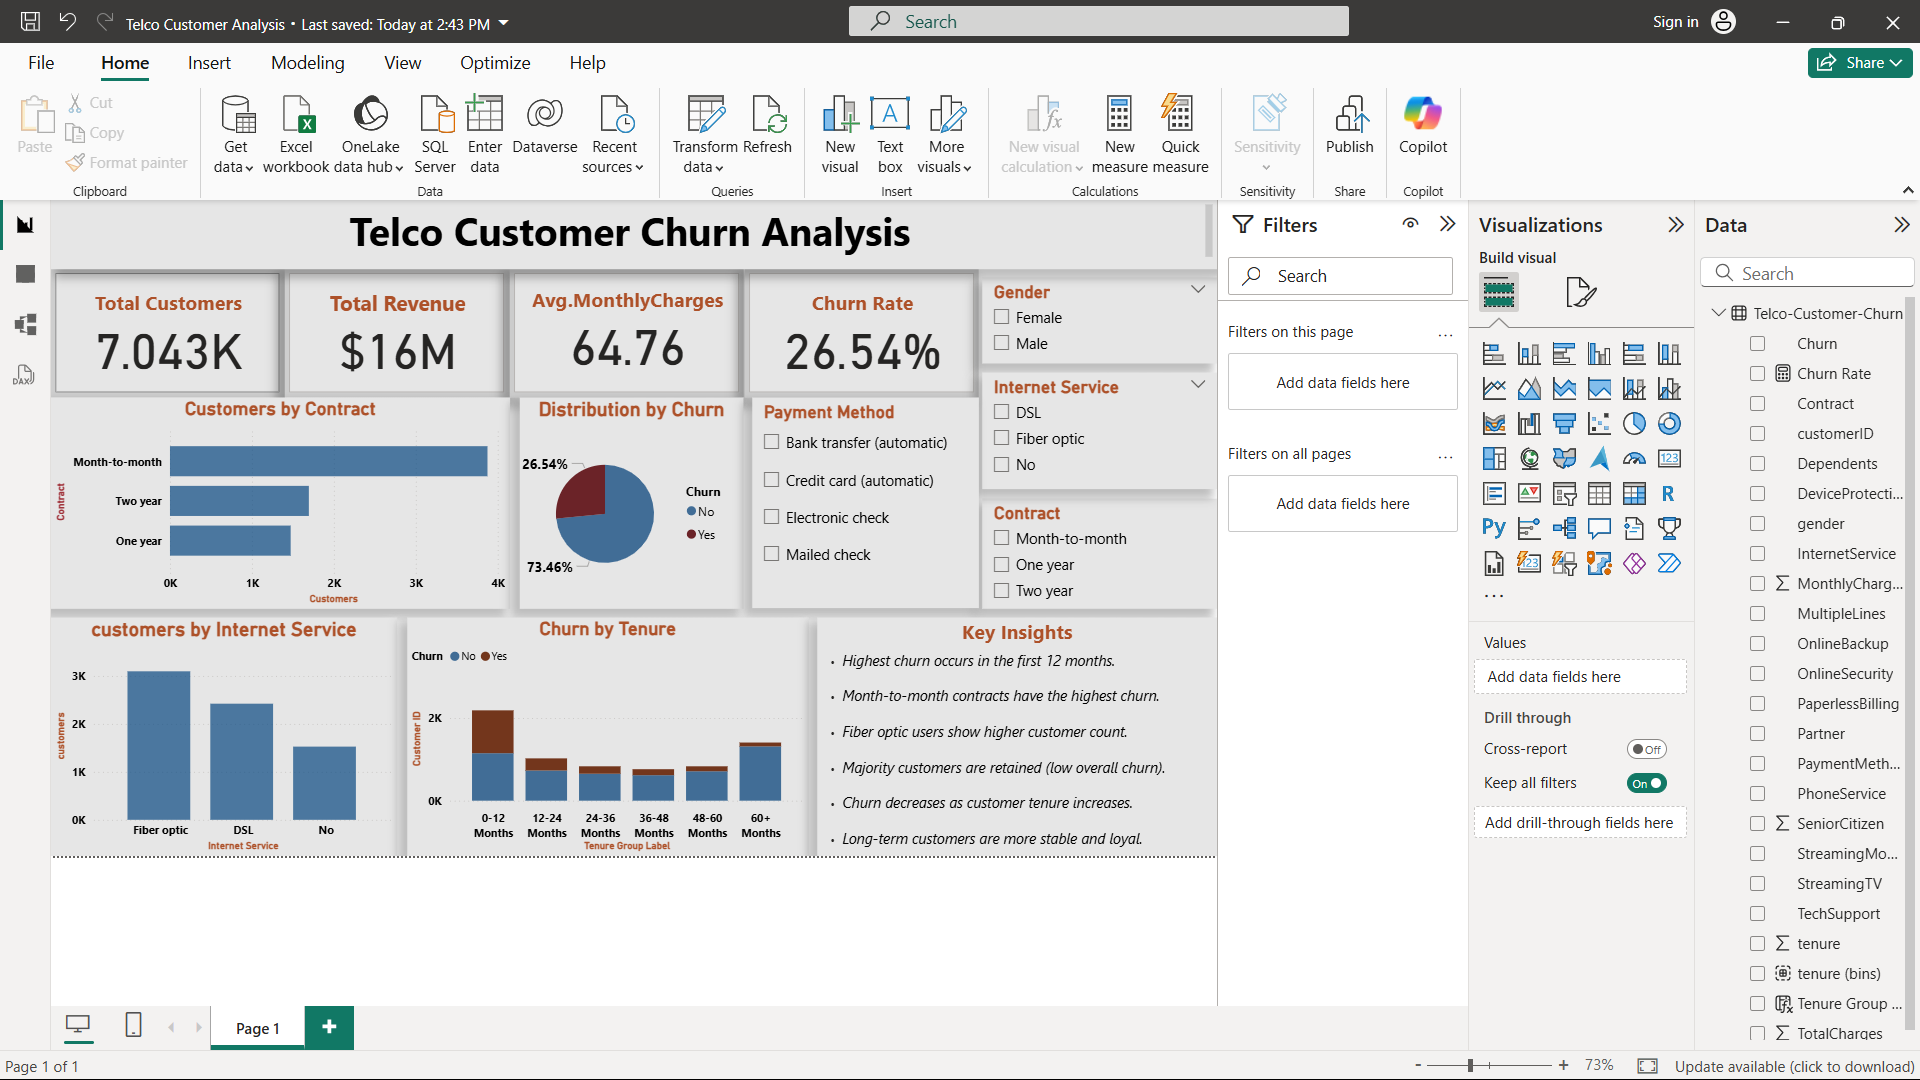

The page's visual inventory and layout, read from the dashboard file:
{"tool":"powerbi","page":{"name":"Page 1","canvas":[1280,720],"ordinal":0},"visuals":[{"type":"cardVisual","fields":{"Data":["CountNonNull(Telco-Customer-Churn.customerID)"]},"box":[0,75.5,256.6,141.3],"z":0},{"type":"cardVisual","fields":{"Data":["Sum(Telco-Customer-Churn.TotalCharges)"]},"box":[256.6,75.5,247,141.3],"z":1000},{"type":"cardVisual","fields":{"Data":["Avg(Telco-Customer-Churn.MonthlyCharges)"]},"box":[504.3,75.7,257.1,141.4],"z":2000},{"type":"cardVisual","fields":{"Data":["Telco-Customer-Churn.Churn Rate"]},"box":[761.4,75.7,257.1,141.4],"z":3000},{"type":"clusteredBarChart","fields":{"Y":["CountNonNull(Telco-Customer-Churn.customerID)"],"Category":["Telco-Customer-Churn.Contract"]},"box":[0,216.8,503.6,231.9],"z":4000},{"type":"clusteredColumnChart","fields":{"Category":["Telco-Customer-Churn.InternetService"],"Y":["CountNonNull(Telco-Customer-Churn.customerID)"]},"box":[0,458.3,380.1,262.1],"z":5000},{"type":"pieChart","fields":{"Category":["Telco-Customer-Churn.Churn"],"Y":["CountNonNull(Telco-Customer-Churn.customerID)"]},"box":[514.6,216.8,245.6,231.9],"z":6000},{"type":"slicer","fields":{"Values":["Telco-Customer-Churn.gender"]},"box":[1022.3,85.1,258,94.7],"z":7000},{"type":"slicer","fields":{"Values":["Telco-Customer-Churn.Contract"]},"box":[1022.3,328,258,120.8],"z":8000},{"type":"slicer","fields":{"Values":["Telco-Customer-Churn.InternetService"]},"box":[1022.3,189.4,258,127.6],"z":9000},{"type":"slicer","fields":{"Values":["Telco-Customer-Churn.PaymentMethod"]},"box":[770,217.1,248.6,231.4],"z":10000},{"type":"columnChart","title":"Churn by Tenure","fields":{"Y":["CountNonNull(Telco-Customer-Churn.customerID)"],"Series":["Telco-Customer-Churn.Churn"],"Category":["Telco-Customer-Churn.Tenure Group Label"]},"box":[391.1,458.3,440.5,262.1],"z":11000},{"type":"textbox","box":[0,0,1280,75.7],"z":12000},{"type":"textbox","title":"Key Insights","box":[841.2,458.3,439.1,262.1],"z":13000}]}

Visuals, with their boxes on the page's 1280x720 design canvas (x1, y1, x2, y2). These are canvas units, not pixel positions in the 1920x1080 screenshot, which may show the page scaled, cropped or inside an application window:
cardVisual - CountNonNull(Telco-Customer-Churn.customerID): l=0, t=76, r=257, b=217
cardVisual - Sum(Telco-Customer-Churn.TotalCharges): l=257, t=76, r=504, b=217
cardVisual - Avg(Telco-Customer-Churn.MonthlyCharges): l=504, t=76, r=761, b=217
cardVisual - Telco-Customer-Churn.Churn Rate: l=761, t=76, r=1018, b=217
clusteredBarChart - CountNonNull(Telco-Customer-Churn.customerID) x Telco-Customer-Churn.Contract: l=0, t=217, r=504, b=449
clusteredColumnChart - Telco-Customer-Churn.InternetService x CountNonNull(Telco-Customer-Churn.customerID): l=0, t=458, r=380, b=720
pieChart - Telco-Customer-Churn.Churn x CountNonNull(Telco-Customer-Churn.customerID): l=515, t=217, r=760, b=449
slicer - Telco-Customer-Churn.gender: l=1022, t=85, r=1280, b=180
slicer - Telco-Customer-Churn.Contract: l=1022, t=328, r=1280, b=449
slicer - Telco-Customer-Churn.InternetService: l=1022, t=189, r=1280, b=317
slicer - Telco-Customer-Churn.PaymentMethod: l=770, t=217, r=1019, b=448
"Churn by Tenure" columnChart: l=391, t=458, r=832, b=720
textbox: l=0, t=0, r=1280, b=76
"Key Insights" textbox: l=841, t=458, r=1280, b=720
